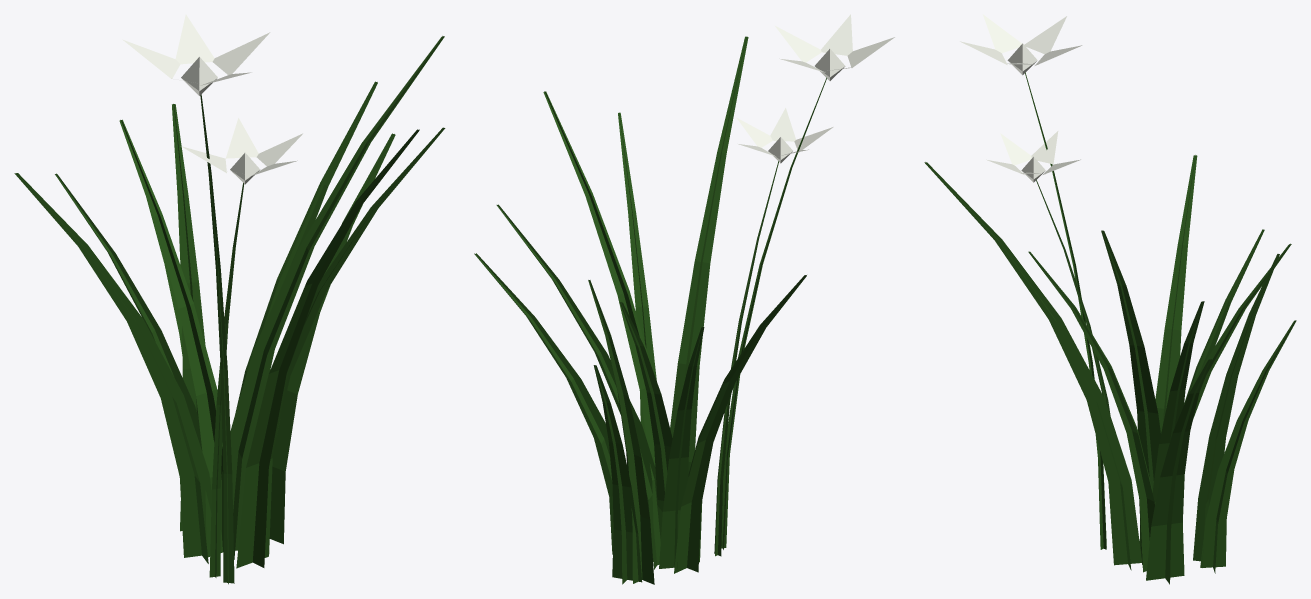
Rendered from BuiCo1.obj.
The picture shows the model from 3 angles, left to right: view 1: azimuth 30°, elevation 25°; view 2: azimuth 150°, elevation 25°; view 3: azimuth 270°, elevation 25°; orthographic projection. The views are drawn at different scales.
Visible parts, largest first — view 1: BuiCo1_Co, BuiCo1_Hoa; view 2: BuiCo1_Co, BuiCo1_Hoa; view 3: BuiCo1_Co, BuiCo1_Hoa.
Boxes of the visible parts, x1,y1,x2,y2 form: BuiCo1_Co: (14, 36, 445, 584); BuiCo1_Hoa: (122, 14, 302, 184); BuiCo1_Co: (474, 36, 826, 584); BuiCo1_Hoa: (736, 14, 894, 163); BuiCo1_Co: (924, 72, 1296, 584); BuiCo1_Hoa: (960, 14, 1082, 182).
Bounding box in the file's own units: 0.5157 × 0.7473 × 0.5238.
